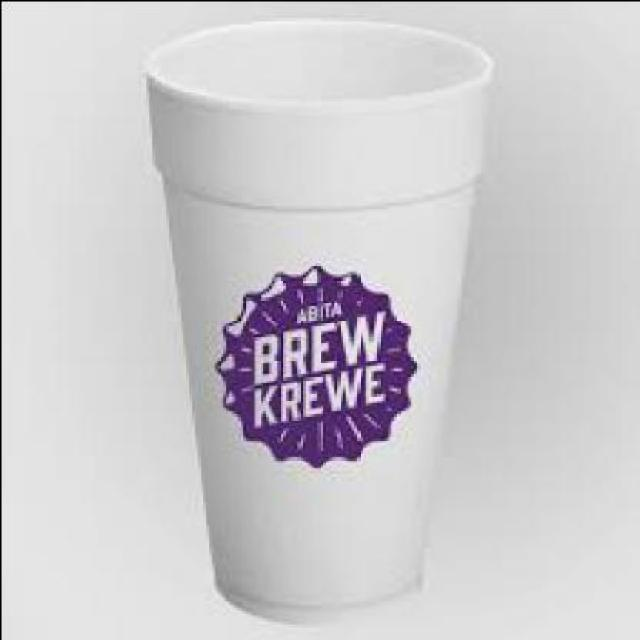PAPER: (142, 14, 489, 620)
